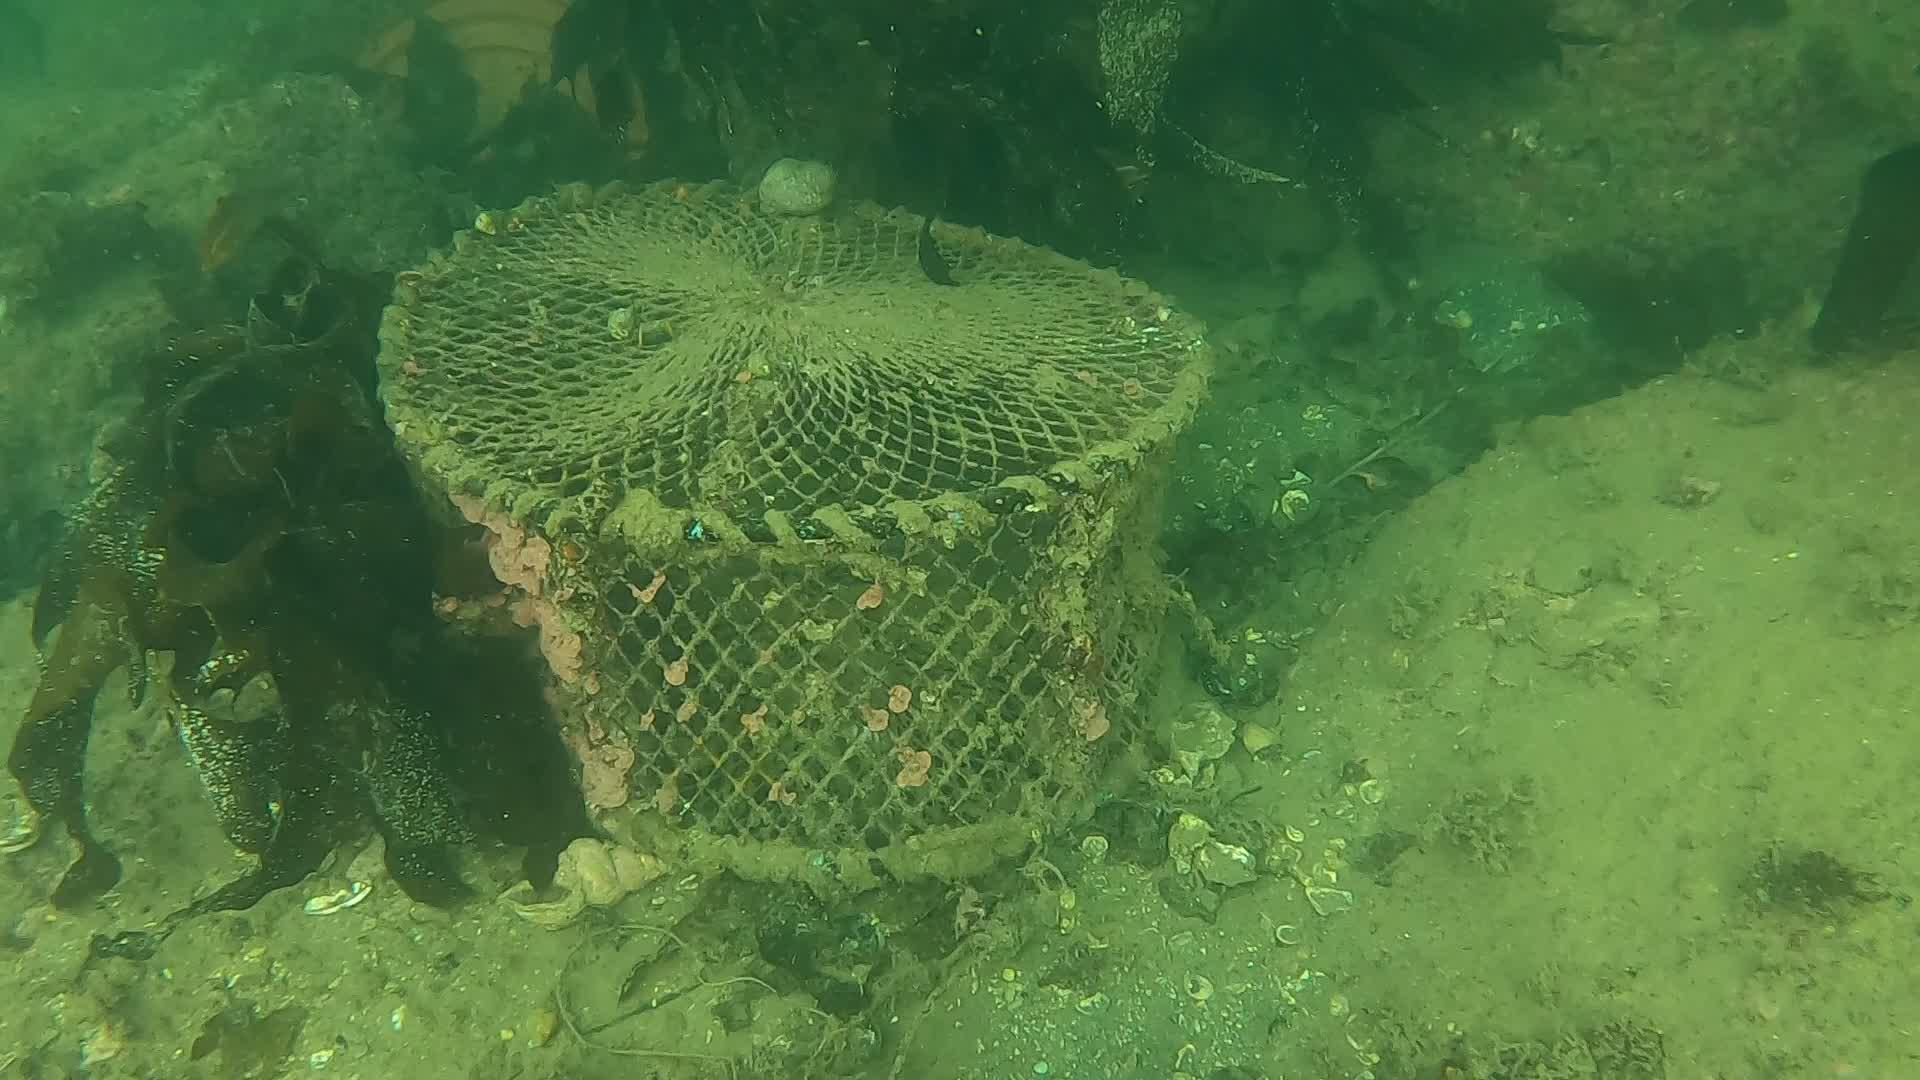circular fish trap: (363, 170, 1216, 893)
